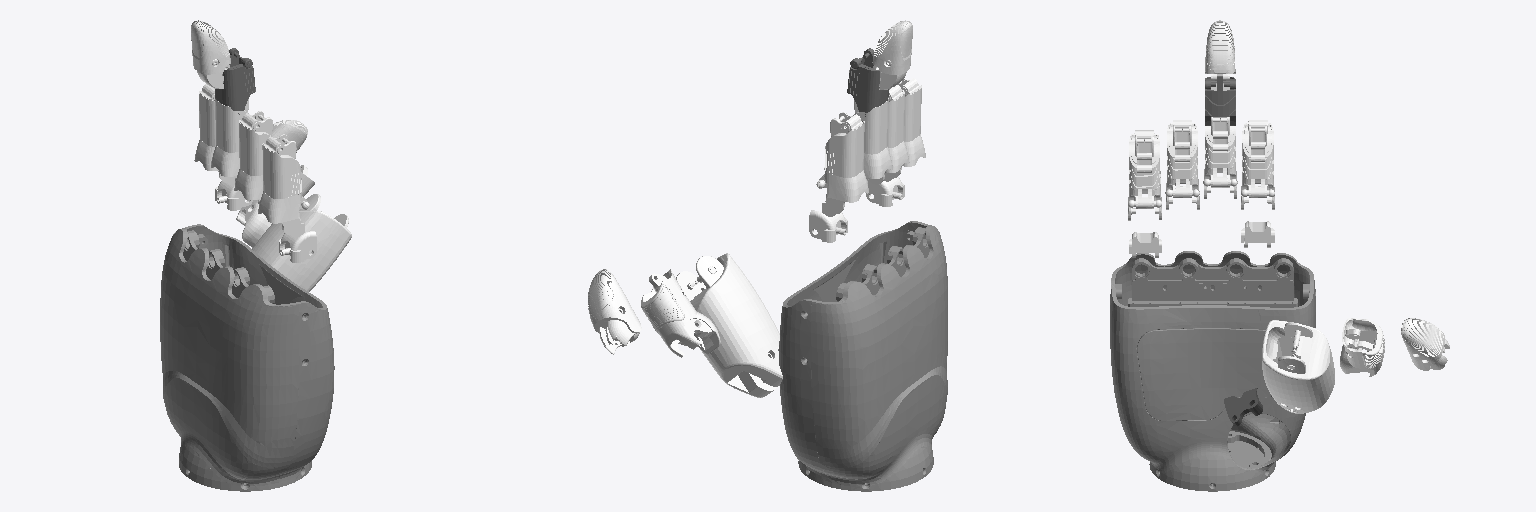
URDF robot description (linkerhand_l10_right.urdf):
<?xml version='1.0' encoding='utf-8'?>
<robot name="linkerhand_l10_right.urdf">
  <link name="hand_base_link">
    <inertial>
      <origin xyz="-0.00286347879502209 -0.00291920793459412 0.0777039265521249" rpy="0 0 0" />
      <mass value="0.34354881926881575" />
      <inertia ixx="0.0006178871752045478" ixy="-2.6576672120597222e-06" ixz="2.644117899209207e-06" iyy="0.0004391769273380083" iyz="-1.1762516839714137e-05" izz="0.00023652230989361893" />
    </inertial>
    <visual>
      <origin xyz="0 0 0" rpy="0 0 0" />
      <geometry>
        <mesh filename="meshes/hand_base_link.STL" />
      </geometry>
      <material name="">
        <color rgba="0.647058823529412 0.647058823529412 0.647058823529412 1" />
      </material>
    </visual>
    <collision>
      <origin xyz="0 0 0" rpy="0 0 0" />
      <geometry>
        <mesh filename="meshes/hand_base_link.STL" />
      </geometry>
    </collision>
  </link>
  <link name="thumb_metacarpals_base1">
    <inertial>
      <origin xyz="0.0219057134643327 9.49674838770457E-06 -0.00324810090530754" rpy="0 0 0" />
      <mass value="0.04425566779982592" />
      <inertia ixx="1.1852816733124185e-05" ixy="9.441105696879437e-09" ixz="-1.2040585542422053e-06" iyy="1.6784567894153087e-05" iyz="4.205957445384576e-09" izz="7.51362035067644e-06" />
    </inertial>
    <visual>
      <origin xyz="0 0 0" rpy="0 0 0" />
      <geometry>
        <mesh filename="meshes/thumb_metacarpals_base1.STL" />
      </geometry>
      <material name="">
        <color rgba="0.4 0.4 0.4 1" />
      </material>
    </visual>
    <collision>
      <origin xyz="0 0 0" rpy="0 0 0" />
      <geometry>
        <mesh filename="meshes/thumb_metacarpals_base1.STL" />
      </geometry>
    </collision>
  </link>
  <joint name="thumb_cmc_roll" type="revolute">
    <origin xyz="-0.016657 0.018426 0.057469" rpy="0 0 0" />
    <parent link="hand_base_link" />
    <child link="thumb_metacarpals_base1" />
    <axis xyz="1 0 0" />
    <limit lower="-0.785" upper="0.785" effort="12" velocity="2.6" />
  </joint>
  <link name="thumb_metacarpals_base2">
    <inertial>
      <origin xyz="-2.13696487971187E-05 0.000548476689927899 0.000535082566625092" rpy="0 0 0" />
      <mass value="0.06546850411934668" />
      <inertia ixx="1.307174350729106e-05" ixy="1.96771531370832e-09" ixz="-1.8601062187867814e-10" iyy="1.0016637448506202e-05" iyz="-2.501411970067449e-07" izz="7.4714107981233404e-06" />
    </inertial>
    <visual>
      <origin xyz="0 0 0" rpy="0 0 0" />
      <geometry>
        <mesh filename="meshes/thumb_metacarpals_base2.STL" />
      </geometry>
      <material name="">
        <color rgba="0.4 0.4 0.4 1" />
      </material>
    </visual>
    <collision>
      <origin xyz="0 0 0" rpy="0 0 0" />
      <geometry>
        <mesh filename="meshes/thumb_metacarpals_base2.STL" />
      </geometry>
    </collision>
  </link>
  <joint name="thumb_cmc_yaw" type="revolute">
    <origin xyz="0.029035 -1.086E-05 0.0020117" rpy="-1.5708 0 -0.56048" />
    <parent link="thumb_metacarpals_base1" />
    <child link="thumb_metacarpals_base2" />
    <axis xyz="0 1 0" />
    <limit lower="0" upper="1.57" effort="12" velocity="2.6" />
  </joint>
  <link name="thumb_metacarpals">
    <inertial>
      <origin xyz="0.00175933658923561 -5.34357170904262E-05 0.0251801046995344" rpy="0 0 0" />
      <mass value="0.0681681057244462" />
      <inertia ixx="1.1428496819233036e-05" ixy="-7.105704903710669e-10" ixz="-3.4099333197868415e-07" iyy="1.5441242890870885e-05" iyz="-1.890889946878245e-09" izz="6.212818723727155e-06" />
    </inertial>
    <visual>
      <origin xyz="0 0 0" rpy="0 0 0" />
      <geometry>
        <mesh filename="meshes/thumb_metacarpals.STL" />
      </geometry>
      <material name="">
        <color rgba="1 1 1 1" />
      </material>
    </visual>
    <collision>
      <origin xyz="0 0 0" rpy="0 0 0" />
      <geometry>
        <mesh filename="meshes/thumb_metacarpals.STL" />
      </geometry>
    </collision>
  </link>
  <joint name="thumb_cmc_pitch" type="revolute">
    <origin xyz="5.9553E-05 0.0034929 0.028731" rpy="0 0.46329 -1.5708" />
    <parent link="thumb_metacarpals_base2" />
    <child link="thumb_metacarpals" />
    <axis xyz="0 1 0" />
    <limit lower="0" upper="0.5286" effort="12" velocity="2.6" />
    
  </joint>
  <link name="thumb_proximal">
    <inertial>
      <origin xyz="-0.000134526311847863 1.60765957719381E-05 0.01556576964587" rpy="0 0 0" />
      <mass value="0.020057039570174552" />
      <inertia ixx="3.5530531107881776e-06" ixy="6.351417949453592e-11" ixz="-4.285819273526554e-07" iyy="3.161423474876087e-06" iyz="-2.0862801826831755e-10" izz="1.5714863583246567e-06" />
    </inertial>
    <visual>
      <origin xyz="0 0 0" rpy="0 0 0" />
      <geometry>
        <mesh filename="meshes/thumb_proximal.STL" />
      </geometry>
      <material name="">
        <color rgba="1 1 1 1" />
      </material>
    </visual>
    <collision>
      <origin xyz="0 0 0" rpy="0 0 0" />
      <geometry>
        <mesh filename="meshes/thumb_proximal.STL" />
      </geometry>
    </collision>
  </link>
  <joint name="thumb_mcp" type="revolute">
    <origin xyz="0.0049422 0 0.050268" rpy="0 0 0" />
    <parent link="thumb_metacarpals" />
    <child link="thumb_proximal" />
    <axis xyz="0 1 0" />
    <limit lower="0" upper="1.0467" effort="12" velocity="2.6" />
    <mimic joint="thumb_cmc_pitch" multiplier="2.24" offset="0" />
  </joint>
  <link name="thumb_distal">
    <inertial>
      <origin xyz="-0.00128308160618328 1.75396134370794E-06 0.0121298685711615" rpy="0 0 0" />
      <mass value="0.023012842812374323" />
      <inertia ixx="1.3631533246000513e-06" ixy="8.366071439323084e-10" ixz="-3.9443488272470783e-07" iyy="1.4146932466147507e-06" iyz="2.739716207650345e-10" izz="1.0760890638017126e-06" />
    </inertial>
    <visual>
      <origin xyz="0 0 0" rpy="0 0 0" />
      <geometry>
        <mesh filename="meshes/thumb_distal.STL" />
      </geometry>
      <material name="">
        <color rgba="1 1 1 1" />
      </material>
    </visual>
    <collision>
      <origin xyz="0 0 0" rpy="0 0 0" />
      <geometry>
        <mesh filename="meshes/thumb_distal.STL" />
      </geometry>
    </collision>
  </link>
  <joint name="thumb_ip" type="revolute">
    <origin xyz="-0.0040391 0 0.036444" rpy="0 0 0" />
    <parent link="thumb_proximal" />
    <child link="thumb_distal" />
    <axis xyz="0 1 0" />
    <limit lower="0" upper="1.256" effort="12" velocity="2.6" />
    <mimic joint="thumb_mcp" multiplier="1.0625" offset="0" />
  </joint>
  <link name="index_metacarpals">
    <inertial>
      <origin xyz="-0.00188108592137497 -1.42567965351467E-05 0.0105056794609021" rpy="0 0 0" />
      <mass value="0.016614213530707737" />
      <inertia ixx="8.249273957455641e-07" ixy="-1.815364018501298e-09" ixz="-2.885560539105427e-08" iyy="1.3119372662724172e-06" iyz="-2.000580101959231e-09" izz="1.176668457306931e-06" />
    </inertial>
    <visual>
      <origin xyz="0 0 0" rpy="0 0 0" />
      <geometry>
        <mesh filename="meshes/index_metacarpals.STL" />
      </geometry>
      <material name="">
        <color rgba="1 1 1 1" />
      </material>
    </visual>
    <collision>
      <origin xyz="0 0 0" rpy="0 0 0" />
      <geometry>
        <mesh filename="meshes/index_metacarpals.STL" />
      </geometry>
    </collision>
  </link>
  <joint name="index_mcp_roll" type="revolute">
    <origin xyz="-0.0021525 0.02293 0.12973" rpy="-0.0017399 0 0" />
    <parent link="hand_base_link" />
    <child link="index_metacarpals" />
    <axis xyz="1 0 0" />
    <limit lower="-0.2268" upper="0" effort="12" velocity="2.6" />
  </joint>
  <link name="index_proximal">
    <inertial>
      <origin xyz="-0.00325182727688448 5.73208143654935E-05 0.019519586479303" rpy="0 0 0" />
      <mass value="0.01170870731662533" />
      <inertia ixx="1.0389451930721624e-06" ixy="1.5702800486767717e-09" ixz="-1.5305796221391668e-07" iyy="1.0038247617527577e-06" iyz="4.9216287560005635e-09" izz="5.499416404538266e-07" />
    </inertial>
    <visual>
      <origin xyz="0 0 0" rpy="0 0 0" />
      <geometry>
        <mesh filename="meshes/index_proximal.STL" />
      </geometry>
      <material name="">
        <color rgba="1 1 1 1" />
      </material>
    </visual>
    <collision>
      <origin xyz="0 0 0" rpy="0 0 0" />
      <geometry>
        <mesh filename="meshes/index_proximal.STL" />
      </geometry>
    </collision>
  </link>
  <joint name="index_mcp_pitch" type="revolute">
    <origin xyz="0.0010297 0 0.017575" rpy="0 0 0" />
    <parent link="index_metacarpals" />
    <child link="index_proximal" />
    <axis xyz="0 1 0" />
    <limit lower="0" upper="1.325" effort="12" velocity="2.6" />
  </joint>
  <link name="index_middle">
    <inertial>
      <origin xyz="-0.00220167944983096 -0.000343531861158337 0.0115244059284959" rpy="0 0 0" />
      <mass value="0.012511711108351411" />
      <inertia ixx="1.09403184194524e-06" ixy="-7.343580587040652e-09" ixz="-1.713550177471346e-07" iyy="9.995027922615628e-07" iyz="1.814980893210536e-08" izz="5.116399235904653e-07" />
    </inertial>
    <visual>
      <origin xyz="0 0 0" rpy="0 0 0" />
      <geometry>
        <mesh filename="meshes/index_middle.STL" />
      </geometry>
      <material name="">
        <color rgba="1 1 1 1" />
      </material>
    </visual>
    <collision>
      <origin xyz="0 0 0" rpy="0 0 0" />
      <geometry>
        <mesh filename="meshes/index_middle.STL" />
      </geometry>
    </collision>
  </link>
  <joint name="index_pip" type="revolute">
    <origin xyz="-0.0033727 0 0.03351" rpy="0 0 0" />
    <parent link="index_proximal" />
    <child link="index_middle" />
    <axis xyz="0 1 0" />
    <limit lower="0" upper="1.57" effort="12" velocity="2.6" />
    <mimic joint="index_mcp_pitch" multiplier="1.18" offset="0" />
  </joint>
  <link name="index_distal">
    <inertial>
      <origin xyz="0.000205019632210583 -5.00613995397879E-05 0.011664419717934" rpy="0 0 0" />
      <mass value="0.014858278875807667" />
      <inertia ixx="8.183645219801856e-07" ixy="-1.721484162975552e-09" ixz="-1.6604218012401215e-07" iyy="7.953022338283046e-07" iyz="1.159195286292745e-08" izz="4.619653286401574e-07" />
    </inertial>
    <visual>
      <origin xyz="0 0 0" rpy="0 0 0" />
      <geometry>
        <mesh filename="meshes/index_distal.STL" />
      </geometry>
      <material name="">
        <color rgba="1 1 1 1" />
      </material>
    </visual>
    <collision>
      <origin xyz="0 0 0" rpy="0 0 0" />
      <geometry>
        <mesh filename="meshes/index_distal.STL" />
      </geometry>
    </collision>
  </link>
  <joint name="index_dip" type="revolute">
    <origin xyz="-0.0050438 0 0.025752" rpy="0 0 0" />
    <parent link="index_middle" />
    <child link="index_distal" />
    <axis xyz="0 1 0" />
    <limit lower="0" upper="1" effort="12" velocity="2.6" />
    <mimic joint="index_pip" multiplier="0.635" offset="0" />
  </joint>
  <link name="middle_proximal">
    <inertial>
      <origin xyz="-0.00325183241327447 5.73145378679994E-05 0.0195196140929391" rpy="0 0 0" />
      <mass value="0.011708689871923124" />
      <inertia ixx="1.038939259376375e-06" ixy="1.5700442643739276e-09" ixz="-1.5305711009694564e-07" iyy="1.003819311570647e-06" iyz="4.923150795055104e-09" izz="5.499413204862797e-07" />
    </inertial>
    <visual>
      <origin xyz="0 0 0" rpy="0 0 0" />
      <geometry>
        <mesh filename="meshes/middle_proximal.STL" />
      </geometry>
      <material name="">
        <color rgba="1 1 1 1" />
      </material>
    </visual>
    <collision>
      <origin xyz="0 0 0" rpy="0 0 0" />
      <geometry>
        <mesh filename="meshes/middle_proximal.STL" />
      </geometry>
    </collision>
  </link>
  <joint name="middle_mcp_pitch" type="revolute">
    <origin xyz="-0.0031229 0.0039297 0.1523" rpy="0 0 0" />
    <parent link="hand_base_link" />
    <child link="middle_proximal" />
    <axis xyz="0 1 0" />
    <limit lower="0" upper="1.325" effort="12" velocity="2.6" />
  </joint>
  <link name="middle_middle">
    <inertial>
      <origin xyz="-0.00220167959658282 -0.000343532177140834 0.0115244055184866" rpy="0 0 0" />
      <mass value="0.012511710480750374" />
      <inertia ixx="1.0940318011177228e-06" ixy="-7.3435689297810425e-09" ixz="-1.7135500823729585e-07" iyy="9.99502768753843e-07" iyz="1.8149788846409702e-08" izz="5.116398953542118e-07" />
    </inertial>
    <visual>
      <origin xyz="0 0 0" rpy="0 0 0" />
      <geometry>
        <mesh filename="meshes/middle_middle.STL" />
      </geometry>
      <material name="">
        <color rgba="0.490196078431373 0.490196078431373 0.490196078431373 1" />
      </material>
    </visual>
    <collision>
      <origin xyz="0 0 0" rpy="0 0 0" />
      <geometry>
        <mesh filename="meshes/middle_middle.STL" />
      </geometry>
    </collision>
  </link>
  <joint name="middle_pip" type="revolute">
    <origin xyz="-0.0033727 0 0.03351" rpy="0 0 0" />
    <parent link="middle_proximal" />
    <child link="middle_middle" />
    <axis xyz="0 1 0" />
    <limit lower="0" upper="1.57" effort="12" velocity="2.6" />
    <mimic joint="middle_mcp_pitch" multiplier="1.18" offset="0" />
  </joint>
  <link name="middle_distal">
    <inertial>
      <origin xyz="0.000205019955498292 -5.00610236550576E-05 0.0116644182424609" rpy="0 0 0" />
      <mass value="0.014858277037854526" />
      <inertia ixx="8.183643560372697e-07" ixy="-1.7215208392080729e-09" ixz="-1.6604222237136692e-07" iyy="7.953020717317786e-07" iyz="1.1592021008249165e-08" izz="4.6196533701401466e-07" />
    </inertial>
    <visual>
      <origin xyz="0 0 0" rpy="0 0 0" />
      <geometry>
        <mesh filename="meshes/middle_distal.STL" />
      </geometry>
      <material name="">
        <color rgba="1 1 1 1" />
      </material>
    </visual>
    <collision>
      <origin xyz="0 0 0" rpy="0 0 0" />
      <geometry>
        <mesh filename="meshes/middle_distal.STL" />
      </geometry>
    </collision>
  </link>
  <joint name="middle_dip" type="revolute">
    <origin xyz="-0.0050438 0 0.025752" rpy="0 0 0" />
    <parent link="middle_middle" />
    <child link="middle_distal" />
    <axis xyz="0 1 0" />
    <limit lower="0" upper="1" effort="12" velocity="2.6" />
    <mimic joint="middle_pip" multiplier="0.635" offset="0" />
  </joint>
  <link name="ring_metacarpals">
    <inertial>
      <origin xyz="-0.00187924037259886 -1.42570579967985E-05 0.0105056794808792" rpy="0 0 0" />
      <mass value="0.016614214319408793" />
      <inertia ixx="8.249274470022796e-07" ixy="-1.8153806663760922e-09" ixz="-2.8855621081547444e-08" iyy="1.3119374075338137e-06" iyz="-2.0006344439242634e-09" izz="1.1766685889930342e-06" />
    </inertial>
    <visual>
      <origin xyz="0 0 0" rpy="0 0 0" />
      <geometry>
        <mesh filename="meshes/ring_metacarpals.STL" />
      </geometry>
      <material name="">
        <color rgba="1 1 1 1" />
      </material>
    </visual>
    <collision>
      <origin xyz="0 0 0" rpy="0 0 0" />
      <geometry>
        <mesh filename="meshes/ring_metacarpals.STL" />
      </geometry>
    </collision>
  </link>
  <joint name="ring_mcp_roll" type="revolute">
    <origin xyz="-0.0021544 -0.01507 0.12973" rpy="0.004655 0 0" />
    <parent link="hand_base_link" />
    <child link="ring_metacarpals" />
    <axis xyz="1 0 0" />
    <limit lower="0" upper="0.2093" effort="12" velocity="2.6" />
  </joint>
  <link name="ring_proximal">
    <inertial>
      <origin xyz="-0.00325184610536779 5.72981834254804E-05 0.0195196887550617" rpy="0 0 0" />
      <mass value="0.011708644033664218" />
      <inertia ixx="1.038923129488147e-06" ixy="1.5694398778912896e-09" ixz="-1.530547828532344e-07" iyy="1.003804420601422e-06" iyz="4.927247600437325e-09" izz="5.499404607173837e-07" />
    </inertial>
    <visual>
      <origin xyz="0 0 0" rpy="0 0 0" />
      <geometry>
        <mesh filename="meshes/ring_proximal.STL" />
      </geometry>
      <material name="">
        <color rgba="1 1 1 1" />
      </material>
    </visual>
    <collision>
      <origin xyz="0 0 0" rpy="0 0 0" />
      <geometry>
        <mesh filename="meshes/ring_proximal.STL" />
      </geometry>
    </collision>
  </link>
  <joint name="ring_mcp_pitch" type="revolute">
    <origin xyz="0.0010315 0 0.017575" rpy="0 0 0" />
    <parent link="ring_metacarpals" />
    <child link="ring_proximal" />
    <axis xyz="0 1 0" />
    <limit lower="0" upper="1.325" effort="12" velocity="2.6" />
  </joint>
  <link name="ring_middle">
    <inertial>
      <origin xyz="-0.00220167991130209 -0.000343532588890416 0.0115244046530842" rpy="0 0 0" />
      <mass value="0.012511709056521332" />
      <inertia ixx="1.094031710078761e-06" ixy="-7.34355479582569e-09" ixz="-1.713549882715768e-07" iyy="9.995027132585127e-07" iyz="1.814976770984882e-08" izz="5.11639832103072e-07" />
    </inertial>
    <visual>
      <origin xyz="0 0 0" rpy="0 0 0" />
      <geometry>
        <mesh filename="meshes/ring_middle.STL" />
      </geometry>
      <material name="">
        <color rgba="1 1 1 1" />
      </material>
    </visual>
    <collision>
      <origin xyz="0 0 0" rpy="0 0 0" />
      <geometry>
        <mesh filename="meshes/ring_middle.STL" />
      </geometry>
    </collision>
  </link>
  <joint name="ring_pip" type="revolute">
    <origin xyz="-0.0033727 0 0.03351" rpy="0 0 0" />
    <parent link="ring_proximal" />
    <child link="ring_middle" />
    <axis xyz="0 1 0" />
    <limit lower="0" upper="1.57" effort="12" velocity="2.6" />
    <mimic joint="ring_mcp_pitch" multiplier="1.18" offset="0" />
  </joint>
  <link name="ring_distal">
    <inertial>
      <origin xyz="0.000205021714718284 -5.00576330846325E-05 0.0116644156669932" rpy="0 0 0" />
      <mass value="0.014858274891747264" />
      <inertia ixx="8.183641976715379e-07" ixy="-1.7217353245923224e-09" ixz="-1.6604208827509671e-07" iyy="7.95301653353257e-07" iyz="1.1592408668350541e-08" izz="4.6196513029322874e-07" />
    </inertial>
    <visual>
      <origin xyz="0 0 0" rpy="0 0 0" />
      <geometry>
        <mesh filename="meshes/ring_distal.STL" />
      </geometry>
      <material name="">
        <color rgba="1 1 1 1" />
      </material>
    </visual>
    <collision>
      <origin xyz="0 0 0" rpy="0 0 0" />
      <geometry>
        <mesh filename="meshes/ring_distal.STL" />
      </geometry>
    </collision>
  </link>
  <joint name="ring_dip" type="revolute">
    <origin xyz="-0.0050438 0 0.025752" rpy="0 0 0" />
    <parent link="ring_middle" />
    <child link="ring_distal" />
    <axis xyz="0 1 0" />
    <limit lower="0" upper="1" effort="12" velocity="2.6" />
    <mimic joint="ring_pip" multiplier="0.635" offset="0" />
  </joint>
  <link name="pinky_metacarpals">
    <inertial>
      <origin xyz="-0.00187924024653063 -1.42571654797655E-05 0.0105056794696284" rpy="0 0 0" />
      <mass value="0.01661421467628334" />
      <inertia ixx="8.249274689039924e-07" ixy="-1.8153921520978174e-09" ixz="-2.8855628111597604e-08" iyy="1.311937481623849e-06" iyz="-2.0006592557747135e-09" izz="1.1766686591478873e-06" />
    </inertial>
    <visual>
      <origin xyz="0 0 0" rpy="0 0 0" />
      <geometry>
        <mesh filename="meshes/pinky_metacarpals.STL" />
      </geometry>
      <material name="">
        <color rgba="1 1 1 1" />
      </material>
    </visual>
    <collision>
      <origin xyz="0 0 0" rpy="0 0 0" />
      <geometry>
        <mesh filename="meshes/pinky_metacarpals.STL" />
      </geometry>
    </collision>
  </link>
  <joint name="pinky_mcp_roll" type="revolute">
    <origin xyz="-0.00015438 -0.03407 0.12473" rpy="0.0073744 0 0" />
    <parent link="hand_base_link" />
    <child link="pinky_metacarpals" />
    <axis xyz="1 0 0" />
    <limit lower="0" upper="0.3663" effort="12" velocity="2.6" />
  </joint>
  <link name="pinky_proximal">
    <inertial>
      <origin xyz="-0.00324745962886003 6.97057679159424E-05 0.0194696777265621" rpy="0 0 0" />
      <mass value="0.011736005978942131" />
      <inertia ixx="1.0519416224053093e-06" ixy="1.956915326417445e-09" ixz="-1.545816068113313e-07" iyy="1.0161859331803621e-06" iyz="1.6697634209632857e-09" izz="5.509476726673267e-07" />
    </inertial>
    <visual>
      <origin xyz="0 0 0" rpy="0 0 0" />
      <geometry>
        <mesh filename="meshes/pinky_proximal.STL" />
      </geometry>
      <material name="">
        <color rgba="1 1 1 1" />
      </material>
    </visual>
    <collision>
      <origin xyz="0 0 0" rpy="0 0 0" />
      <geometry>
        <mesh filename="meshes/pinky_proximal.STL" />
      </geometry>
    </collision>
  </link>
  <joint name="pinky_mcp_pitch" type="revolute">
    <origin xyz="0.0010315 0 0.017575" rpy="0 0 0" />
    <parent link="pinky_metacarpals" />
    <child link="pinky_proximal" />
    <axis xyz="0 1 0" />
    <limit lower="0" upper="1.325" effort="12" velocity="2.6" />
  </joint>
  <link name="pinky_middle">
    <inertial>
      <origin xyz="-0.00220167992020897 -0.000343532603299626 0.0115244046300094" rpy="0 0 0" />
      <mass value="0.01251170901822359" />
      <inertia ixx="1.0940317076393356e-06" ixy="-7.343554263542592e-09" ixz="-1.7135498768773633e-07" iyy="9.995027118433804e-07" iyz="1.814976697428645e-08" izz="5.116398304222848e-07" />
    </inertial>
    <visual>
      <origin xyz="0 0 0" rpy="0 0 0" />
      <geometry>
        <mesh filename="meshes/pinky_middle.STL" />
      </geometry>
      <material name="">
        <color rgba="1 1 1 1" />
      </material>
    </visual>
    <collision>
      <origin xyz="0 0 0" rpy="0 0 0" />
      <geometry>
        <mesh filename="meshes/pinky_middle.STL" />
      </geometry>
    </collision>
  </link>
  <joint name="pinky_pip" type="revolute">
    <origin xyz="-0.0033727 0 0.03351" rpy="0 0 0" />
    <parent link="pinky_proximal" />
    <child link="pinky_middle" />
    <axis xyz="0 1 0" />
    <limit lower="0" upper="1.57" effort="12" velocity="2.6" />
    <mimic joint="pinky_mcp_pitch" multiplier="1.18" offset="0" />
  </joint>
  <link name="pinky_distal">
    <inertial>
      <origin xyz="0.000205022549105534 -5.0056002684748E-05 0.0116644157108276" rpy="0 0 0" />
      <mass value="0.014858275630682649" />
      <inertia ixx="8.183641423891162e-07" ixy="-1.721808186645477e-09" ixz="-1.660419484057267e-07" iyy="7.953016309158144e-07" iyz="1.1592588912071308e-08" izz="4.6196518084538117e-07" />
    </inertial>
    <visual>
      <origin xyz="0 0 0" rpy="0 0 0" />
      <geometry>
        <mesh filename="meshes/pinky_distal.STL" />
      </geometry>
      <material name="">
        <color rgba="1 1 1 1" />
      </material>
    </visual>
    <collision>
      <origin xyz="0 0 0" rpy="0 0 0" />
      <geometry>
        <mesh filename="meshes/pinky_distal.STL" />
      </geometry>
    </collision>
  </link>
  <joint name="pinky_dip" type="revolute">
    <origin xyz="-0.0050438 0 0.025752" rpy="0 0 0" />
    <parent link="pinky_middle" />
    <child link="pinky_distal" />
    <axis xyz="0 1 0" />
    <limit lower="0" upper="1" effort="12" velocity="2.6" />
    <mimic joint="pinky_pip" multiplier="0.635" offset="0" />
  </joint>
</robot>

--- Render facts (derived) ---
3 views of the same robot in one strip: view 1: azimuth 30°, elevation 25°; view 2: azimuth 150°, elevation 25°; view 3: azimuth 270°, elevation 25° (orthographic).
Model linkerhand_l10_right.urdf with 21 links and 20 joints (20 revolute), rooted at hand_base_link, posed every joint at zero.
Visible links, largest first — view 1: hand_base_link, thumb_metacarpals, pinky_proximal, ring_proximal, middle_distal, middle_proximal, middle_middle, index_proximal, thumb_proximal, pinky_metacarpals, index_metacarpals, thumb_distal; view 2: hand_base_link, thumb_metacarpals, thumb_proximal, index_proximal, thumb_distal, middle_distal, middle_proximal, middle_middle, pinky_proximal, ring_proximal, index_metacarpals, pinky_metacarpals; view 3: hand_base_link, thumb_metacarpals, index_proximal, pinky_proximal, ring_proximal, middle_proximal, thumb_proximal, thumb_distal, middle_distal, middle_middle, thumb_metacarpals_base2, index_metacarpals (+1 smaller).
Boxes of the visible links, x1,y1,x2,y2 form: hand_base_link: [160, 224, 334, 491]; thumb_metacarpals: [252, 194, 351, 291]; pinky_proximal: [258, 134, 309, 234]; ring_proximal: [234, 111, 272, 203]; middle_distal: [191, 20, 230, 88]; middle_proximal: [211, 99, 248, 182]; middle_middle: [215, 48, 255, 114]; index_proximal: [194, 84, 234, 182]; thumb_proximal: [236, 165, 314, 247]; pinky_metacarpals: [279, 223, 316, 262]; index_metacarpals: [215, 179, 252, 210]; thumb_distal: [272, 120, 307, 152]; hand_base_link: [779, 221, 947, 491]; thumb_metacarpals: [676, 253, 782, 397]; thumb_proximal: [641, 269, 720, 357]; index_proximal: [816, 112, 868, 213]; thumb_distal: [588, 269, 641, 354]; middle_distal: [872, 20, 912, 89]; middle_proximal: [853, 98, 892, 182]; middle_middle: [847, 48, 888, 121]; pinky_proximal: [885, 78, 925, 178]; ring_proximal: [869, 85, 909, 184]; index_metacarpals: [809, 203, 847, 242]; pinky_metacarpals: [866, 175, 904, 206]; hand_base_link: [1110, 251, 1315, 491]; thumb_metacarpals: [1262, 320, 1334, 413]; index_proximal: [1241, 120, 1274, 209]; pinky_proximal: [1128, 130, 1161, 220]; ring_proximal: [1165, 120, 1199, 209]; middle_proximal: [1203, 117, 1237, 198]; thumb_proximal: [1340, 318, 1384, 376]; thumb_distal: [1401, 318, 1449, 370]; middle_distal: [1205, 20, 1235, 90]; middle_middle: [1205, 76, 1235, 125]; thumb_metacarpals_base2: [1224, 388, 1262, 425]; index_metacarpals: [1241, 221, 1274, 247].
Size in the robot's own frame: 0.1232 by 0.1722 by 0.2369 metres.
Meshes: 21 distinct files referenced, 14 mesh visuals loaded (14 binary STL); not drawn: 7 (reference not matched to a file when rendering).